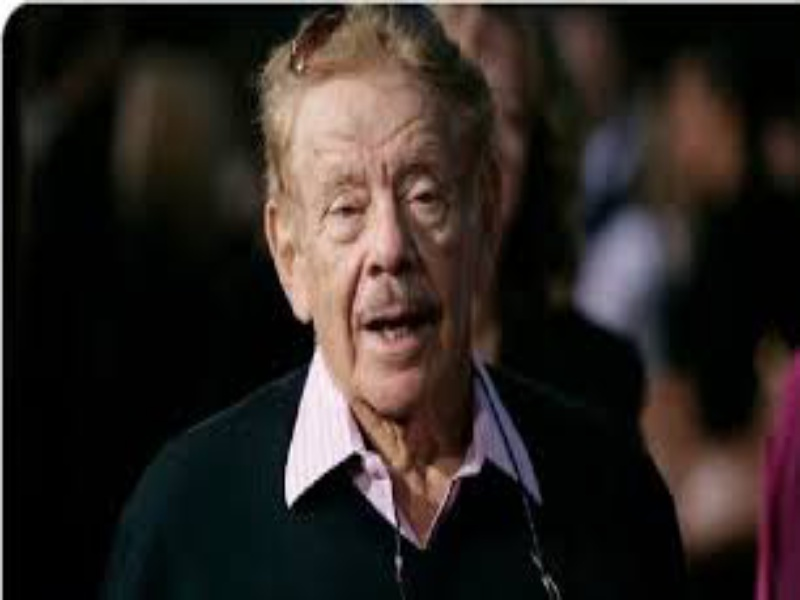TsisyArotava: (269, 94, 486, 423)
